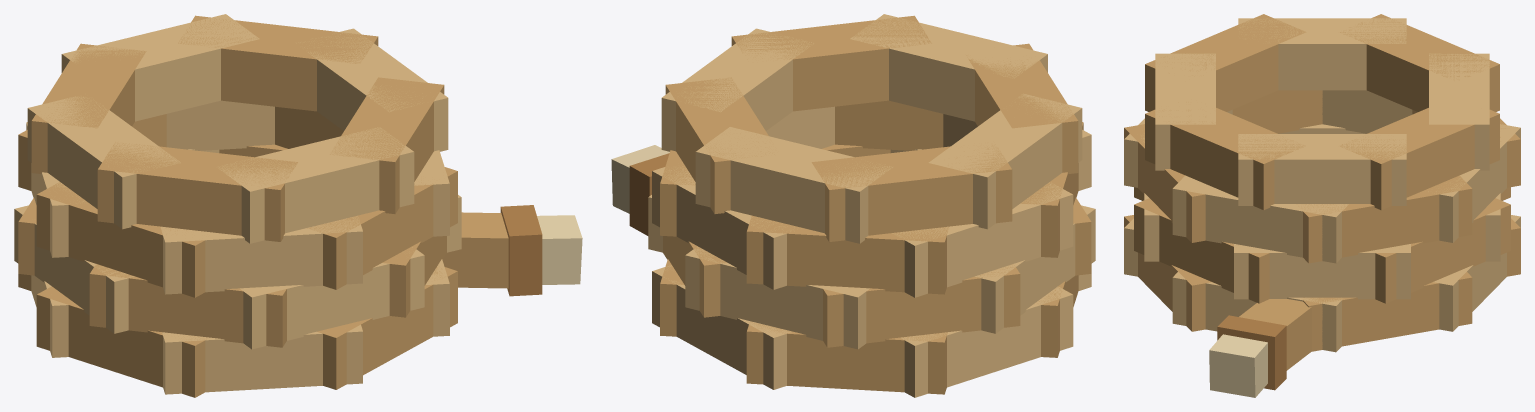
The model's file is rope-coil-pixor-blocky.glb.
3 views of the same model, side by side, from view 1: azimuth 30°, elevation 25°; view 2: azimuth 150°, elevation 25°; view 3: azimuth 270°, elevation 25° (orthographic). The views are drawn at different scales.
Parts seen in each view (by area): view 1: Rope coil; view 2: Rope coil; view 3: Rope coil.
Part boxes in pixels (x1,y1,x2,y2): Rope coil: (14, 14, 582, 397); Rope coil: (611, 14, 1095, 397); Rope coil: (1124, 14, 1520, 397).
Size of the model in its own units: 0.5147 by 0.208 by 0.4047.
Materials: 1 (1 with a texture image).
